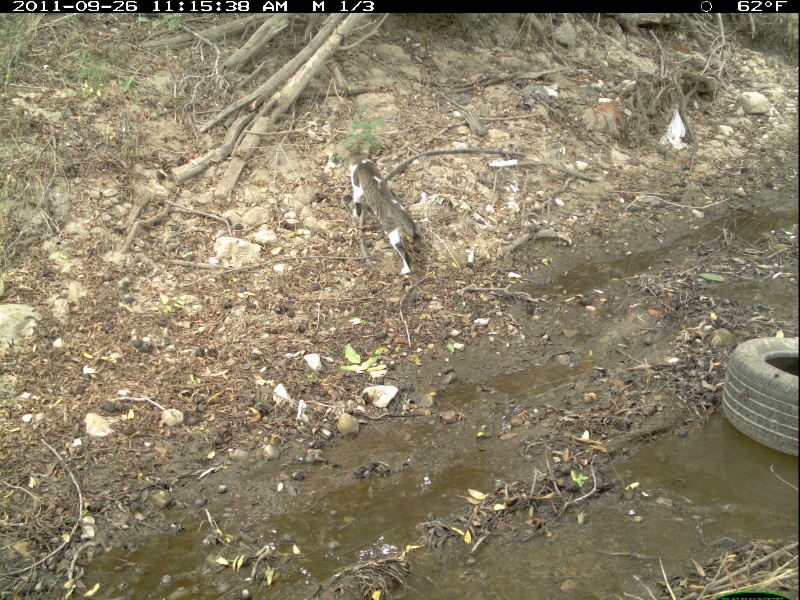cat: (342, 151, 429, 274)
